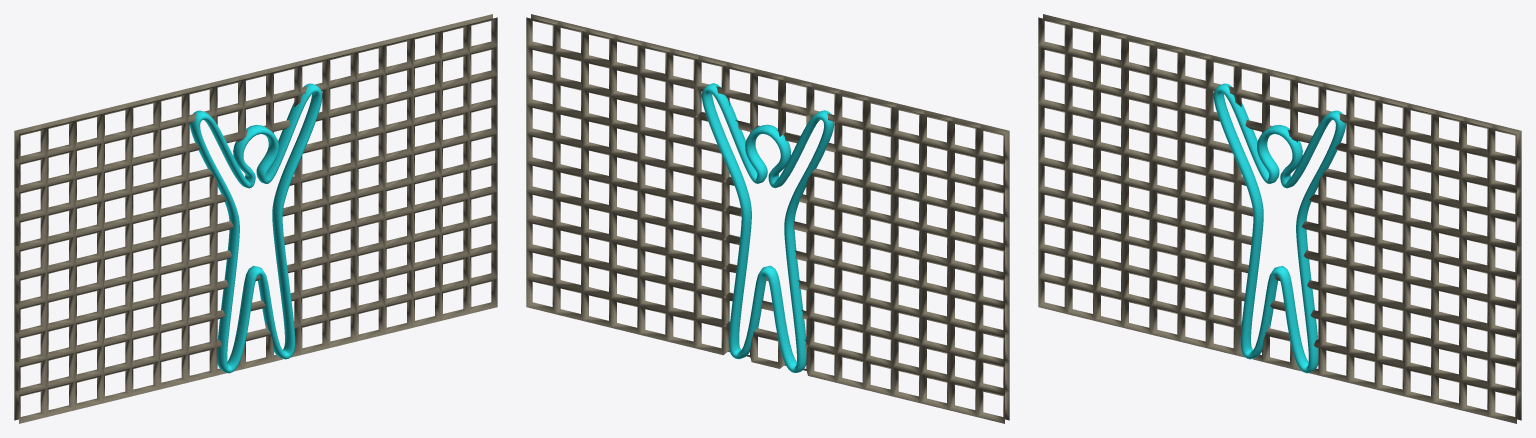
Rendered from [poo]_St2_Grid_55.fbx.
The picture shows the model from 3 angles, left to right: view 1: azimuth 30°, elevation 25°; view 2: azimuth 150°, elevation 25°; view 3: azimuth 330°, elevation 25°; orthographic projection.
Parts seen in each view (by area): view 1: Grid_55; view 2: Grid_55; view 3: Grid_55.
Boxes of the visible parts, bbox=[...] form: Grid_55: bbox=[14, 14, 497, 423]; Grid_55: bbox=[526, 14, 1009, 423]; Grid_55: bbox=[1038, 14, 1521, 423].
Size of the model in its own units: 1604 by 931 by 45.72.
